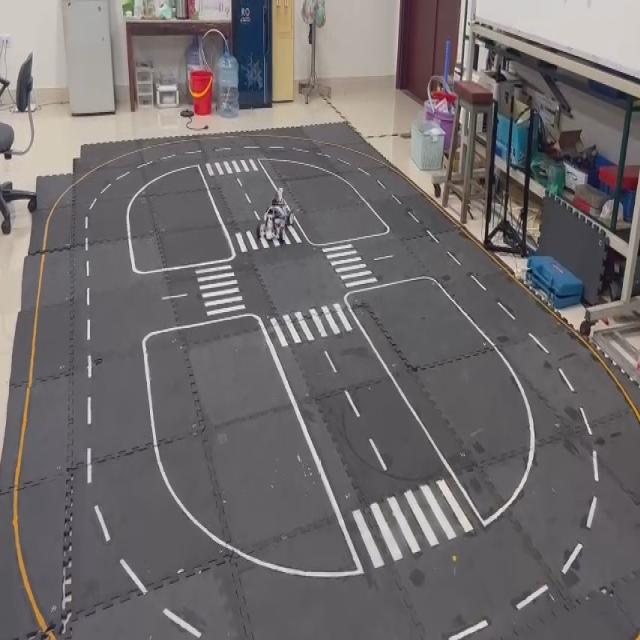SiCo-CAR: (256, 185, 294, 243)
